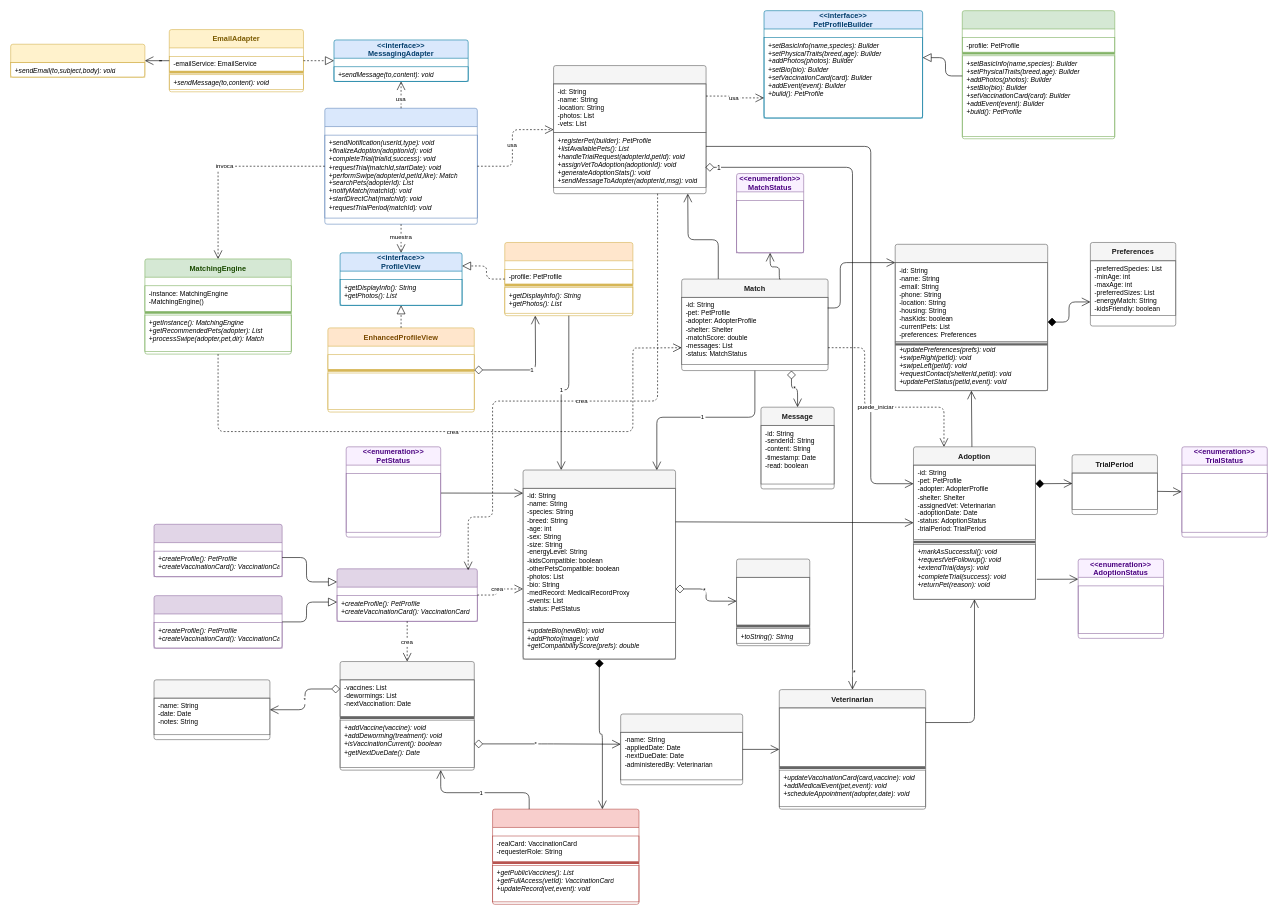
The diagram is 1278 pixels wide and 915 high, and some of its shapes have lost their labels. The shapes that lost their labels are listed below. From the top down, each one's box as (x1, y1, x2, y2) in pixels, then its label:
(10, 44, 145, 77): EmailService
(962, 10, 1115, 139): ConcretePetBuilder
(553, 65, 706, 194): Shelter
(324, 108, 477, 224): PetAdoptionFacade
(736, 200, 804, 253): PENDING MUTUAL ACTIVE TRIAL_STARTED ADOPTED
(504, 242, 633, 316): BasicProfileView
(895, 244, 1048, 391): AdopterProfile
(327, 354, 474, 369): -wrapped: BasicProfileView
(327, 372, 474, 410): +getDisplayInfo(): String +getPhotos(): List +getFeaturedBadge(): String
(346, 473, 441, 532): AVAILABLE IN_TRIAL ADOPTED RETURNED UNAVAILABLE
(1071, 472, 1157, 510): -startDate: Date -endDate: Date -status: TrialStatus
(1181, 473, 1267, 532): REQUESTED ACTIVE COMPLETED APPROVED RETURNED
(153, 524, 282, 577): CatFactory
(522, 469, 676, 659): PetProfile
(336, 568, 477, 621): AbstractPetFactory
(736, 577, 810, 625): -date: Date -title: String -description: String -vetNotes: String
(736, 558, 810, 646): MedicalEvent
(1078, 585, 1164, 633): PENDING APPROVED ACTIVE CLOSE
(153, 595, 282, 648): DogFactory
(153, 679, 270, 740): Treatment
(339, 661, 474, 770): VaccinationCard
(620, 713, 743, 785): Vaccine
(779, 707, 926, 766): -id: String -name: String -specialty: String -phone: String -schedule: List
(492, 809, 639, 904): MedicalRecordProxy
